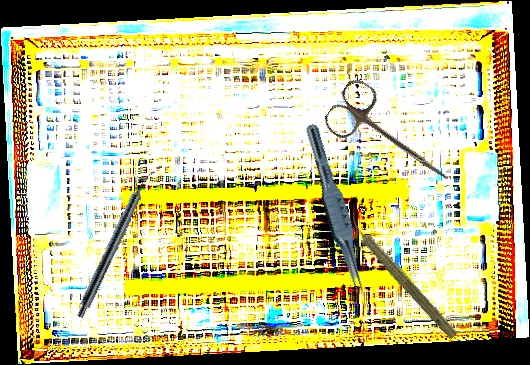Handpiece: (341, 210, 464, 342), (74, 166, 157, 321)
Iris Scissors: (319, 75, 467, 201)
Tissue Forceps: (295, 122, 376, 300)
